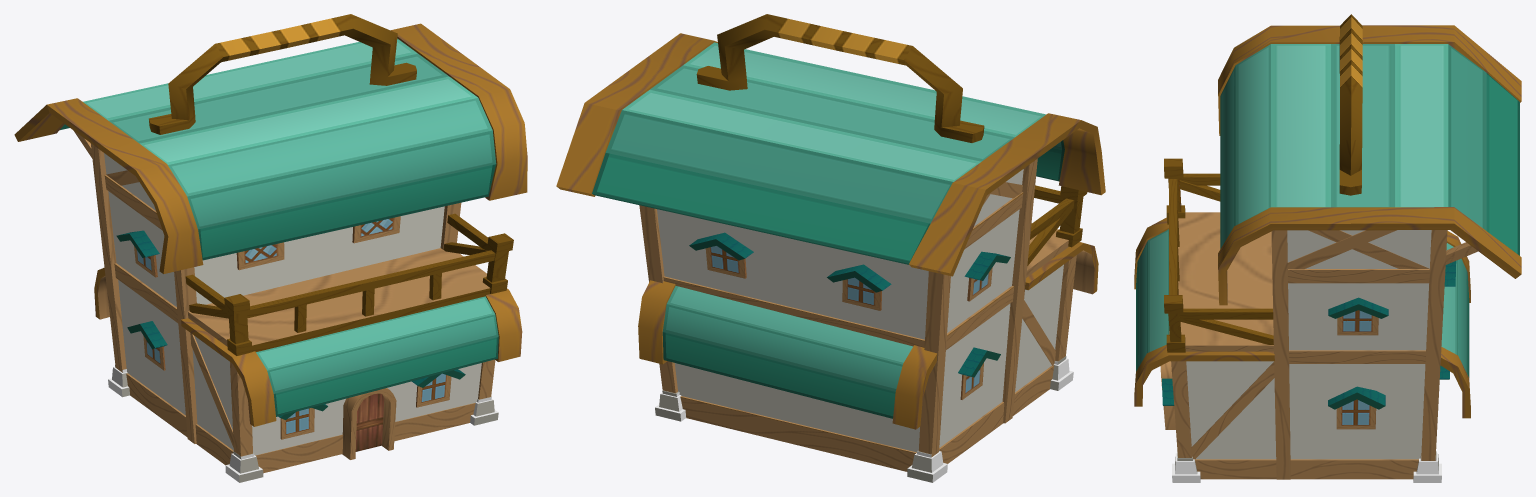
File: building_variety_lv4.FBX
3 renders of one model, left to right at view 1: azimuth 30°, elevation 25°; view 2: azimuth 150°, elevation 25°; view 3: azimuth 270°, elevation 25°, orthographic. The views are drawn at different scales.
Parts seen in each view (by area): view 1: building_variety_lv4, building_variety_main_lv4; view 2: building_variety_main_lv4, building_variety_lv4; view 3: building_variety_main_lv4, building_variety_lv4.
Part boxes in pixels (bbox=[...]): building_variety_lv4: bbox=[14, 14, 527, 482]; building_variety_main_lv4: bbox=[60, 38, 496, 455]; building_variety_main_lv4: bbox=[592, 42, 1064, 452]; building_variety_lv4: bbox=[556, 14, 1105, 482]; building_variety_main_lv4: bbox=[1186, 44, 1519, 459]; building_variety_lv4: bbox=[1134, 14, 1521, 482].
Bounding box in the file's own units: 596 × 549 × 519.
